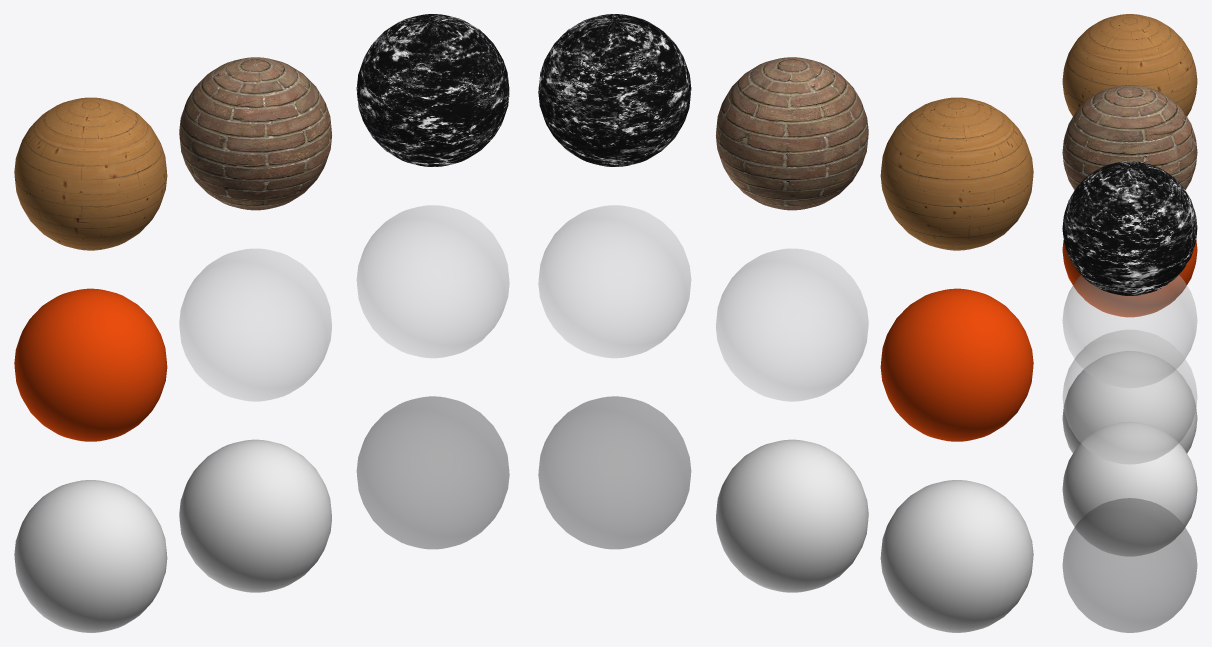
The model's file is materials_test_optimized.glb.
The picture shows the model from 3 angles, left to right: view 1: azimuth 30°, elevation 25°; view 2: azimuth 150°, elevation 25°; view 3: azimuth 270°, elevation 25°; orthographic projection. The views are drawn at different scales.
Visible parts, largest first — view 1: Sphere.006, Sphere.001, Sphere.003, Sphere.007, Sphere, Sphere.008, Sphere.002, Sphere.005, Sphere.004; view 2: Sphere.006, Sphere.001, Sphere.003, Sphere.007, Sphere, Sphere.008, Sphere.002, Sphere.005, Sphere.004; view 3: Sphere.008, Sphere.001, Sphere.002, Sphere.005, Sphere.004, Sphere.007, Sphere.006, Sphere, Sphere.003.
Boxes of the visible parts, x1=… form: Sphere.006: x1=14, y1=97, x2=167, y2=250; Sphere.001: x1=179, y1=439, x2=331, y2=592; Sphere.003: x1=14, y1=288, x2=167, y2=441; Sphere.007: x1=179, y1=57, x2=331, y2=210; Sphere: x1=14, y1=480, x2=167, y2=632; Sphere.008: x1=356, y1=14, x2=509, y2=166; Sphere.002: x1=356, y1=396, x2=509, y2=549; Sphere.005: x1=357, y1=205, x2=509, y2=357; Sphere.004: x1=179, y1=248, x2=331, y2=401; Sphere.006: x1=880, y1=97, x2=1033, y2=250; Sphere.001: x1=716, y1=439, x2=868, y2=592; Sphere.003: x1=880, y1=288, x2=1033, y2=441; Sphere.007: x1=716, y1=57, x2=868, y2=210; Sphere: x1=880, y1=480, x2=1033, y2=632; Sphere.008: x1=538, y1=14, x2=691, y2=166; Sphere.002: x1=538, y1=396, x2=691, y2=549; Sphere.005: x1=538, y1=205, x2=690, y2=357; Sphere.004: x1=716, y1=248, x2=868, y2=401; Sphere.008: x1=1062, y1=161, x2=1197, y2=295; Sphere.001: x1=1062, y1=421, x2=1197, y2=556; Sphere.002: x1=1062, y1=498, x2=1197, y2=632; Sphere.005: x1=1062, y1=330, x2=1197, y2=464; Sphere.004: x1=1062, y1=275, x2=1197, y2=387; Sphere.007: x1=1062, y1=85, x2=1197, y2=189; Sphere.006: x1=1062, y1=14, x2=1197, y2=116; Sphere: x1=1062, y1=351, x2=1197, y2=453; Sphere.003: x1=1062, y1=240, x2=1197, y2=317.
Size of the model in its own units: 7.16 by 7.5 by 2.
9 materials, 3 textured.
